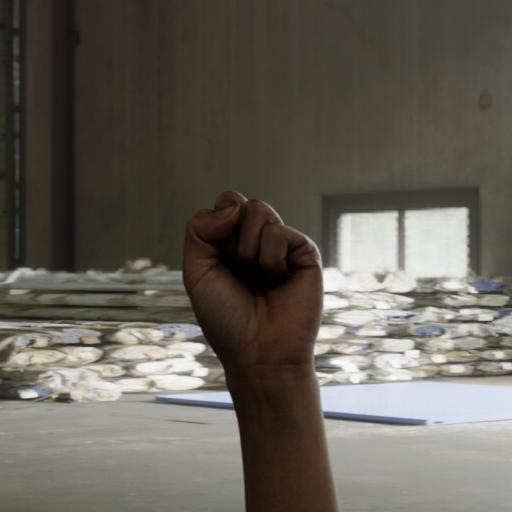H: (178, 185, 327, 380)
